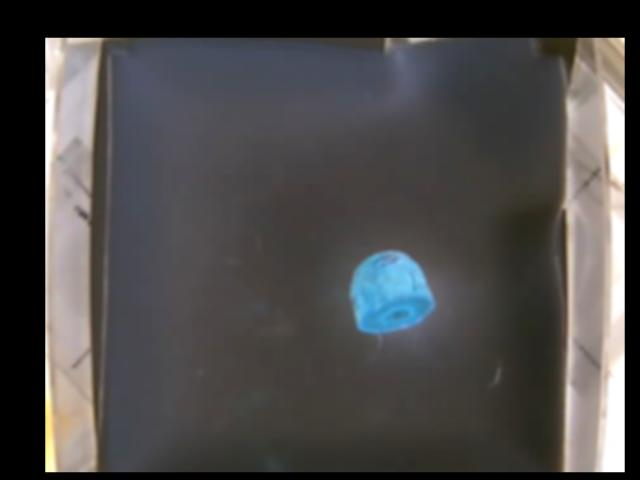Carrot: (351, 248, 431, 334)
